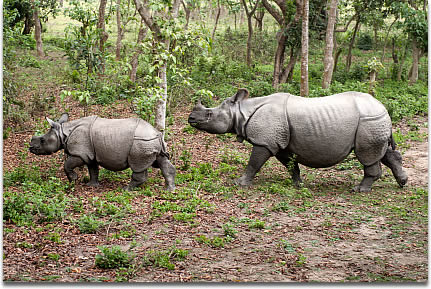rhinoceros: (188, 91, 408, 190), (25, 118, 174, 191)
